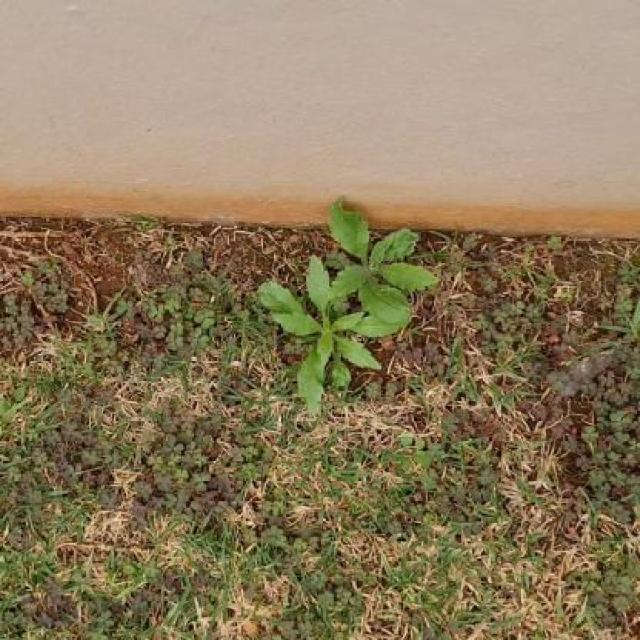weed: (260, 198, 438, 410)
